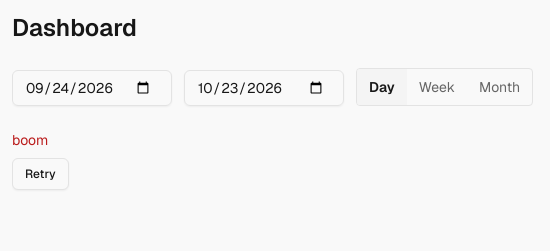
Test: Dashboard › disables Retry while the range is invalid
Expected: the button "Retry" is enabled, x1=12 y1=158 x2=69 y2=190
Type "2025-01-01" into the 2nd date field named "To". click: (264, 88)
box: x1=184 y1=70 x2=344 y2=106
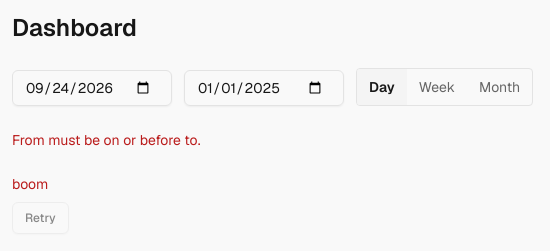
Now the button "Retry" is disabled, box x1=12 y1=202 x2=69 y2=234
